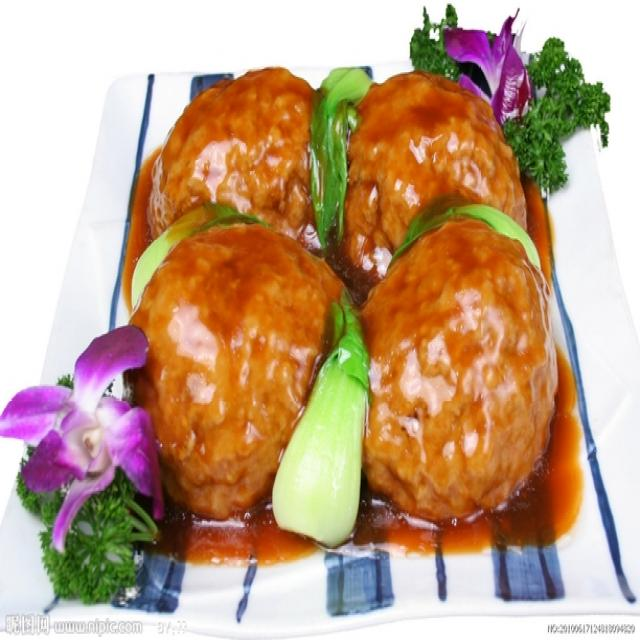meatball: (125, 210, 352, 540), (342, 221, 563, 535), (332, 63, 536, 274), (148, 69, 334, 276)
